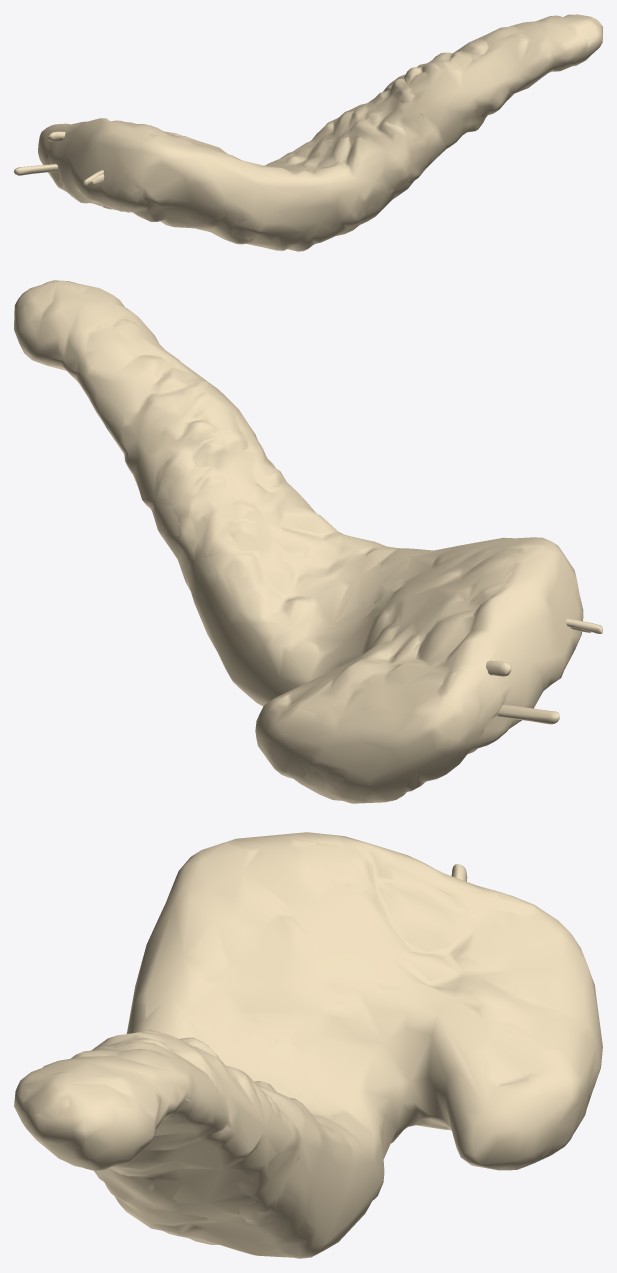
Rendered from pancreas.glb.
The picture shows the model from 3 angles, top to bottom: view 1: azimuth 30°, elevation 25°; view 2: azimuth 150°, elevation 25°; view 3: azimuth 270°, elevation 25°; orthographic projection. The views are drawn at different scales.
Parts seen in each view (by area): view 1: pancreas; view 2: pancreas; view 3: pancreas.
Part boxes in pixels (left/top/right/bottom): pancreas: left=14, top=14, right=602, bottom=251; pancreas: left=14, top=280, right=602, bottom=803; pancreas: left=14, top=832, right=602, bottom=1258.
Bounding box in the file's own units: 129 × 50.94 × 73.76.
